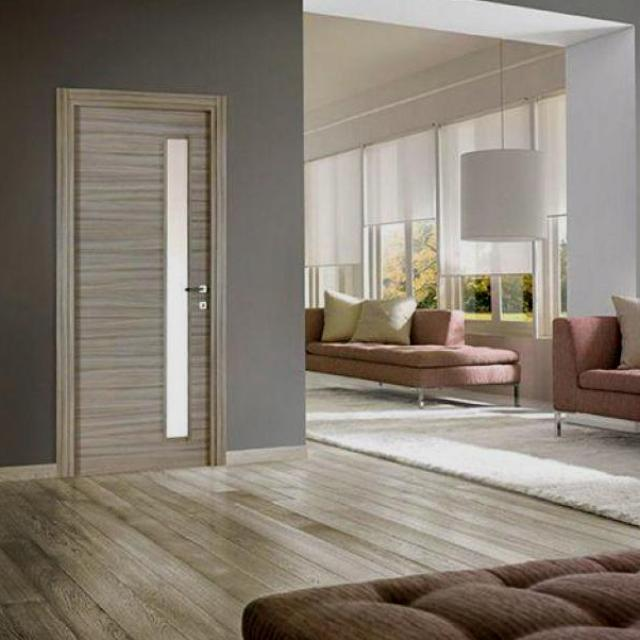door: (61, 89, 220, 476)
